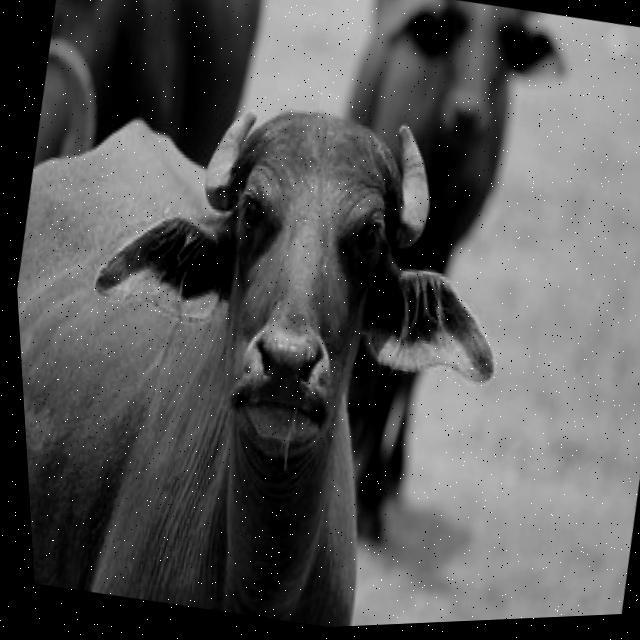Buffalo: (4, 48, 553, 640)
